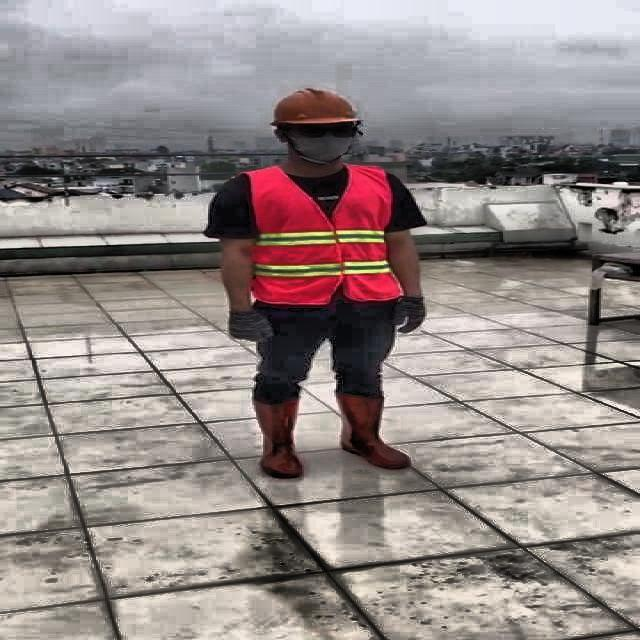safety_helmet: (268, 84, 360, 124)
safety_jacket: (247, 166, 404, 300)
